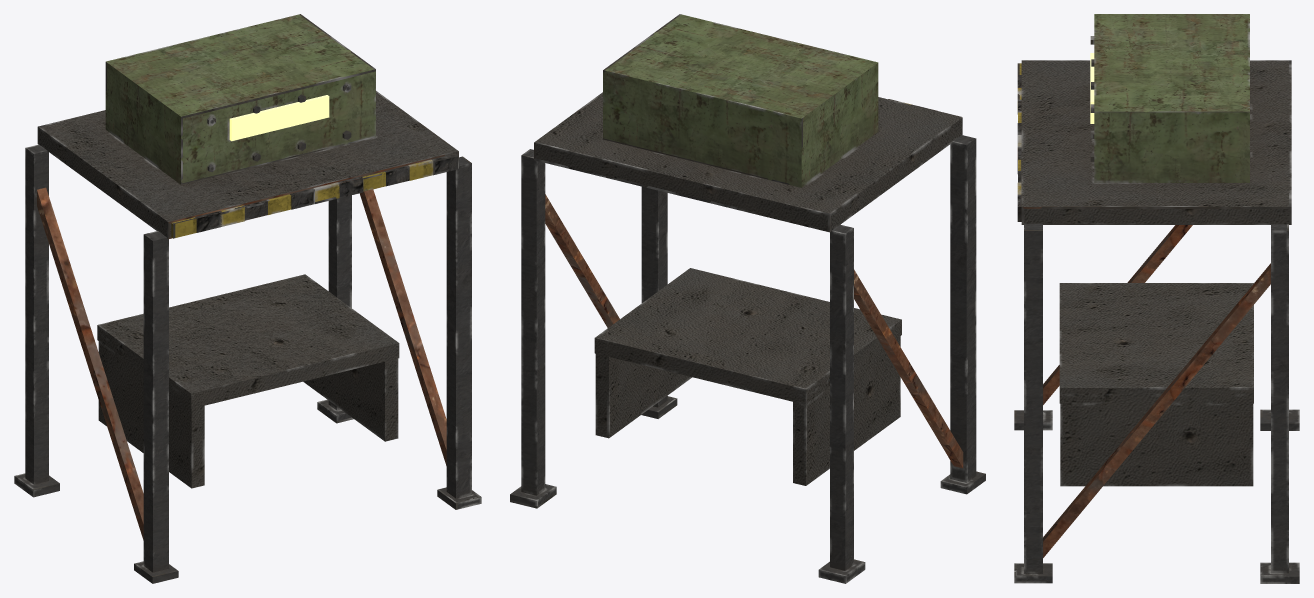
The model's file is feReflowOven_HD.fbx.
The picture shows the model from 3 angles, left to right: view 1: azimuth 30°, elevation 25°; view 2: azimuth 150°, elevation 25°; view 3: azimuth 270°, elevation 25°; orthographic projection. The views are drawn at different scales.
Parts seen in each view (by area): view 1: feReflowOven_Base, FeReach_Legs, FeReach_Hood; view 2: feReflowOven_Base, FeReach_Legs, FeReach_Hood; view 3: feReflowOven_Base, FeReach_Hood, FeReach_Legs.
Boxes of the visible parts, <box> form: feReflowOven_Base: <box>37,14,458,239</box>; FeReach_Legs: <box>14,144,481,583</box>; FeReach_Hood: <box>97,274,399,488</box>; feReflowOven_Base: <box>534,14,962,232</box>; FeReach_Legs: <box>510,135,985,583</box>; FeReach_Hood: <box>594,268,901,485</box>; feReflowOven_Base: <box>1017,14,1291,224</box>; FeReach_Hood: <box>1059,283,1253,486</box>; FeReach_Legs: <box>1014,223,1299,583</box>.
Bounding box in the file's own units: 1.02 × 1.25 × 0.7412.
Materials: 2 (1 with a texture image).
